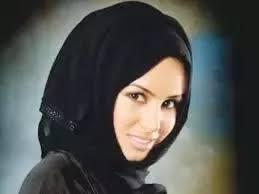indian_female: (61, 7, 200, 182)
